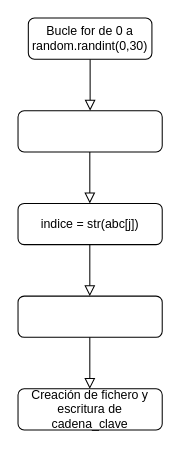
This 180x449 diagram has some shape labels left out. The shapes that lost their labels are listed below. From the top down, each one's centre as x and y in pixels, then its label:
the point at 89,131: j = random.randint(0,26)
the point at 89,316: cadena_clave = cadena_clave + indice
